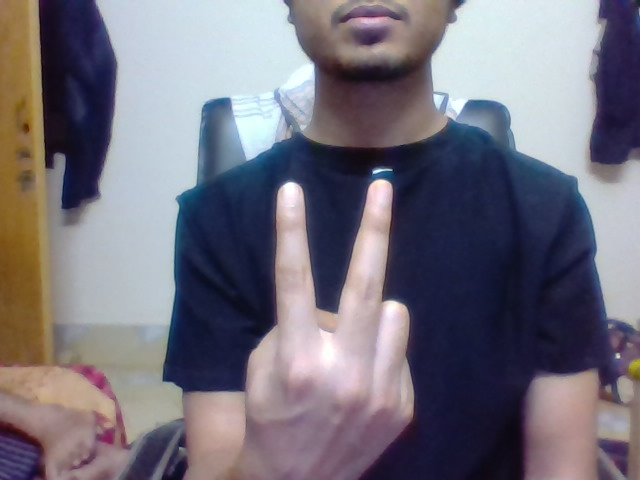V: (270, 175, 397, 323)
